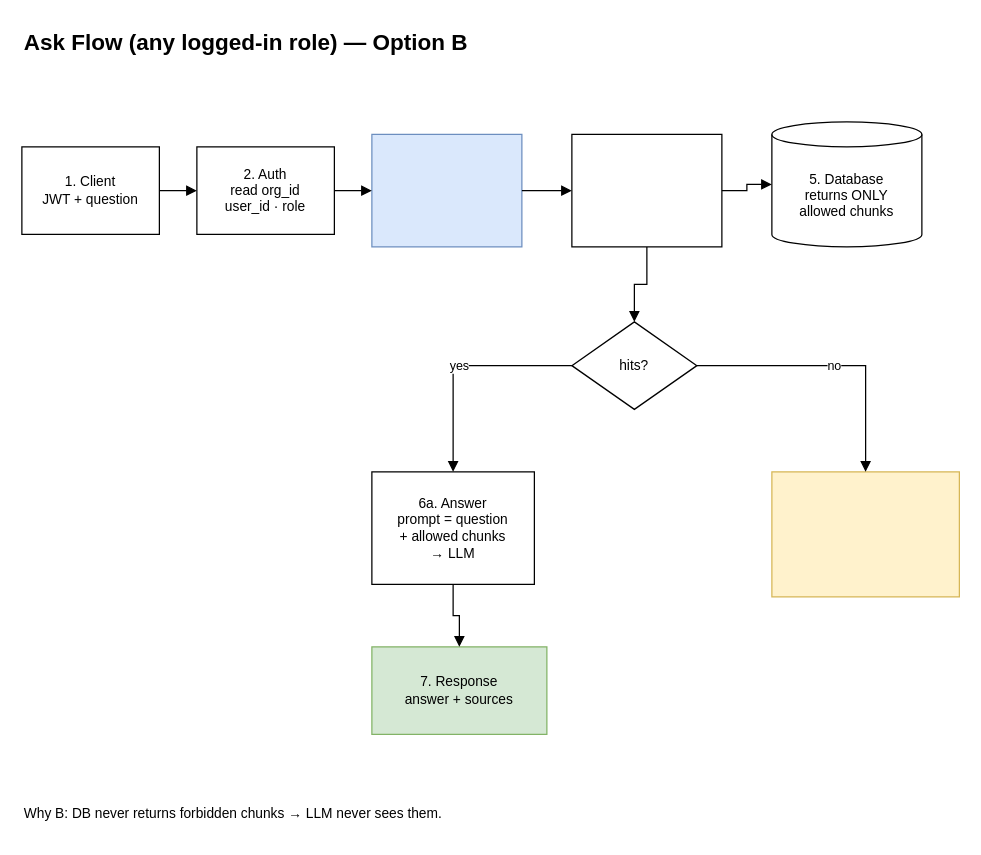
Image size: 981x855. Some labels were removed from this diagram. Here are the shapes that lost their labels. From the top down, the centre of each, then its label:
the point at 446,190: 3. Ask API open DB txn SET LOCAL org + role
the point at 646,190: 4. Retrieval search chunks RLS hides forbidden docs
the point at 865,534: 6b. Safe reply Not found in docs you can access. no sources no existence leak
